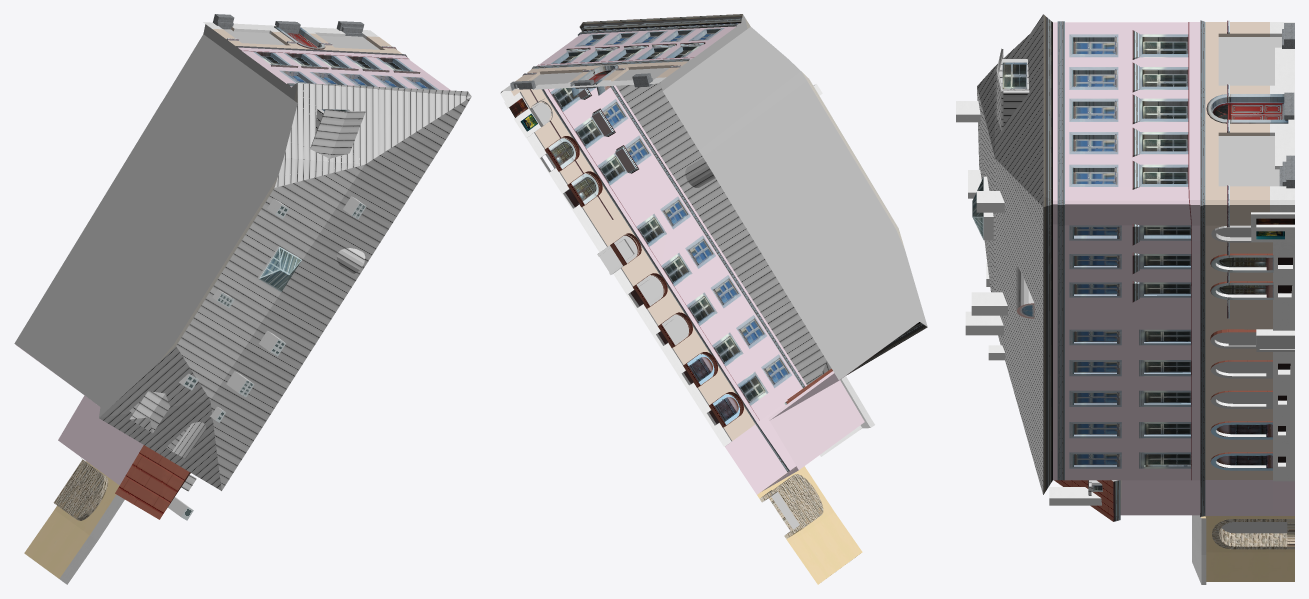
Rendered from Viru_16.obj.
The picture shows the model from 3 angles, left to right: view 1: azimuth 30°, elevation 25°; view 2: azimuth 150°, elevation 25°; view 3: azimuth 270°, elevation 25°; orthographic projection. The views are drawn at different scales.
Parts seen in each view (by area): view 1: viru16, xxx; view 2: viru16, xxx; view 3: viru16.
Boxes of the visible parts, x1,y1,x2,y2 form: viru16: (15, 14, 471, 584); xxx: (14, 24, 297, 417); viru16: (500, 14, 927, 584); xxx: (660, 14, 927, 557); viru16: (956, 14, 1294, 584).
Size of the model in its own units: 30.23 by 38.96 by 17.47.
